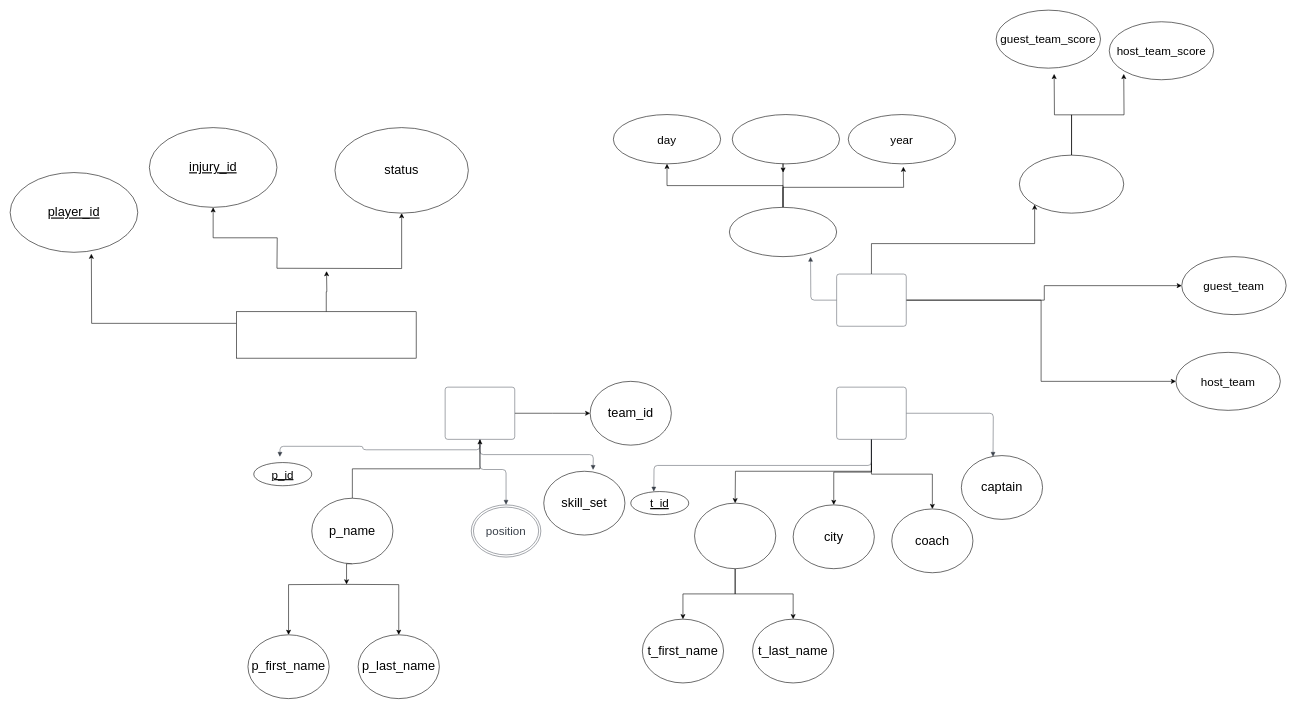
The diagram is 1296 pixels wide and 709 high, and some of its shapes have lost their labels. Here are the shapes that lost their labels. From the top down, the centre of each, then its label:
point 786,139: month
point 1071,184: score
point 783,232: date
point 871,300: game
point 326,334: Injury_record
point 480,413: player
point 871,413: team
point 735,536: t_name
